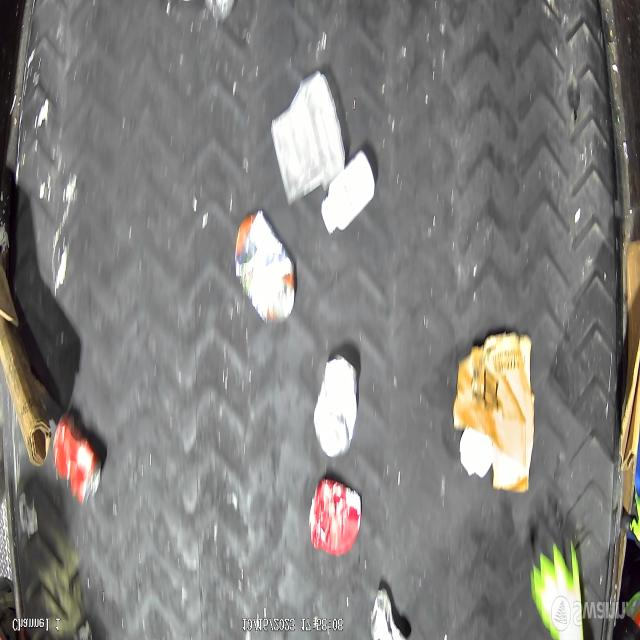can: (234, 210, 296, 326), (314, 353, 359, 458), (52, 411, 102, 505), (309, 478, 362, 557)
